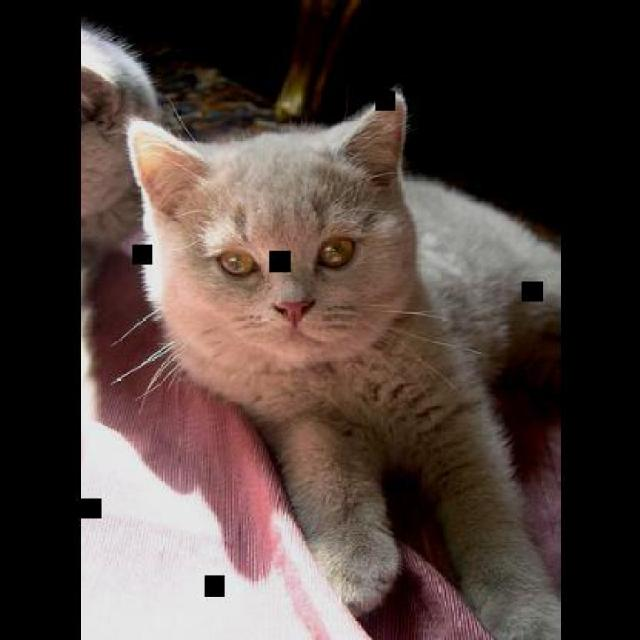unauthorized: (103, 84, 562, 638)
